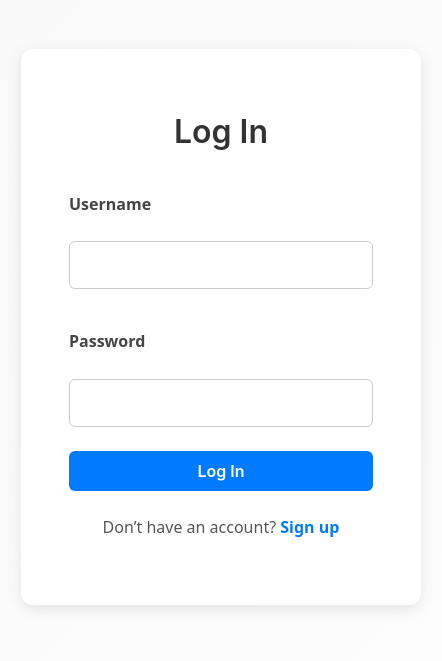
Test: failed login: incorrect credentials
The image size is (442, 661).
Type "testingworld" into the field labelled "Username" at (221, 265), box x1=69 y1=241 x2=373 y2=289
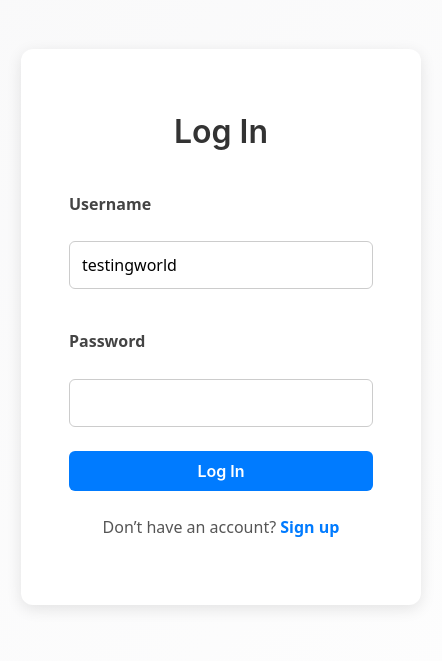
Type "testingworld" into the password field labelled "Password" at (221, 403), box x1=69 y1=379 x2=373 y2=427
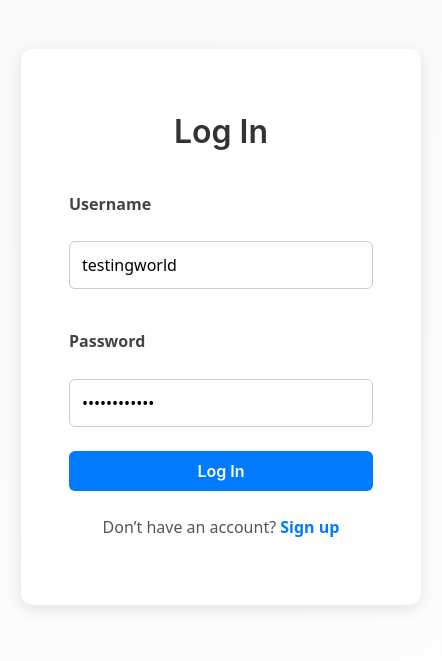
Click the button at (221, 471), box x1=69 y1=451 x2=373 y2=491
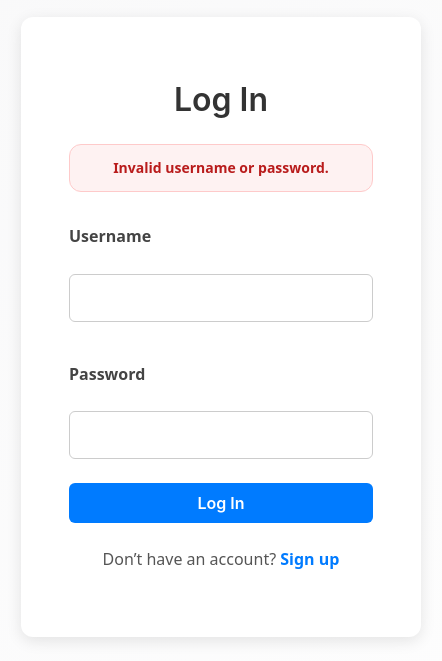
Expected: the text "Invalid username or password." is shown, x1=69 y1=144 x2=373 y2=192
